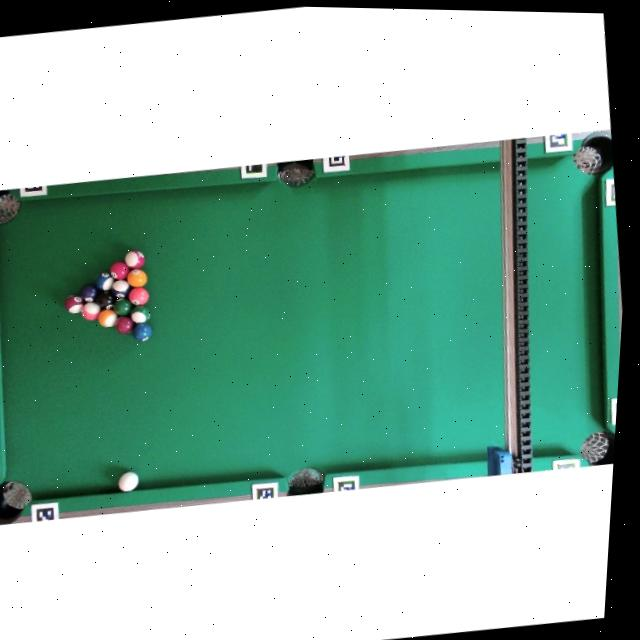cue ball: (115, 469, 140, 493)
other: (93, 270, 116, 293), (127, 285, 151, 307), (107, 259, 130, 281), (96, 307, 119, 329), (125, 267, 149, 288), (130, 321, 154, 342), (110, 296, 134, 317), (78, 282, 100, 304), (80, 300, 102, 322), (123, 249, 146, 270), (109, 278, 132, 299), (128, 304, 152, 324), (113, 314, 135, 335), (63, 293, 85, 314), (94, 291, 117, 311)
